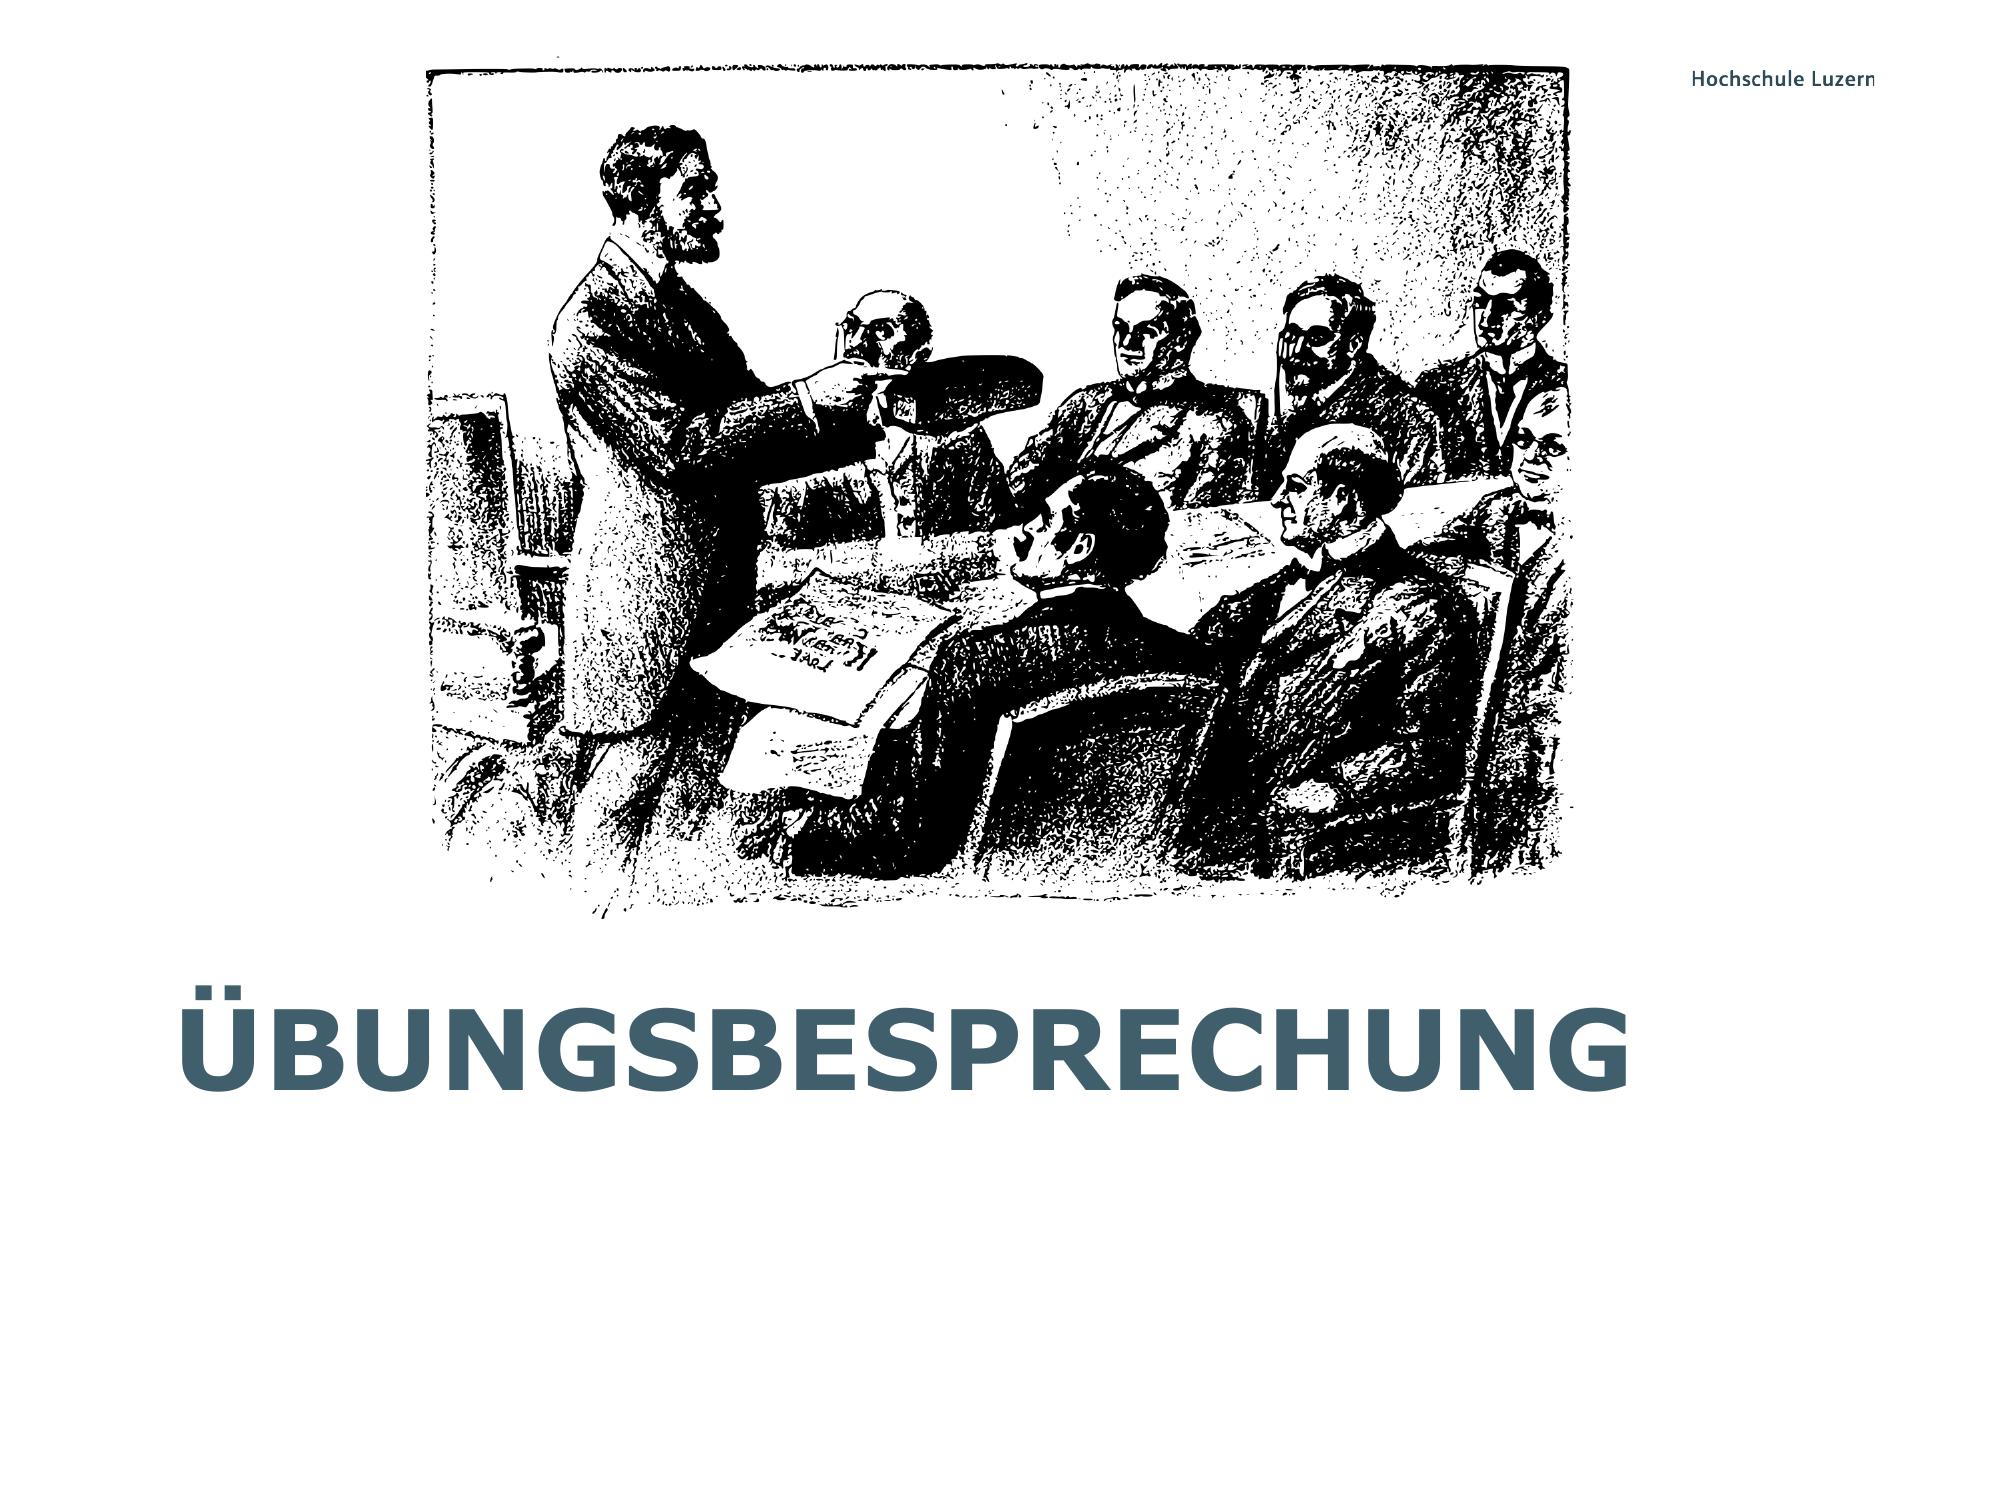Title: (169, 972, 1644, 1105)
